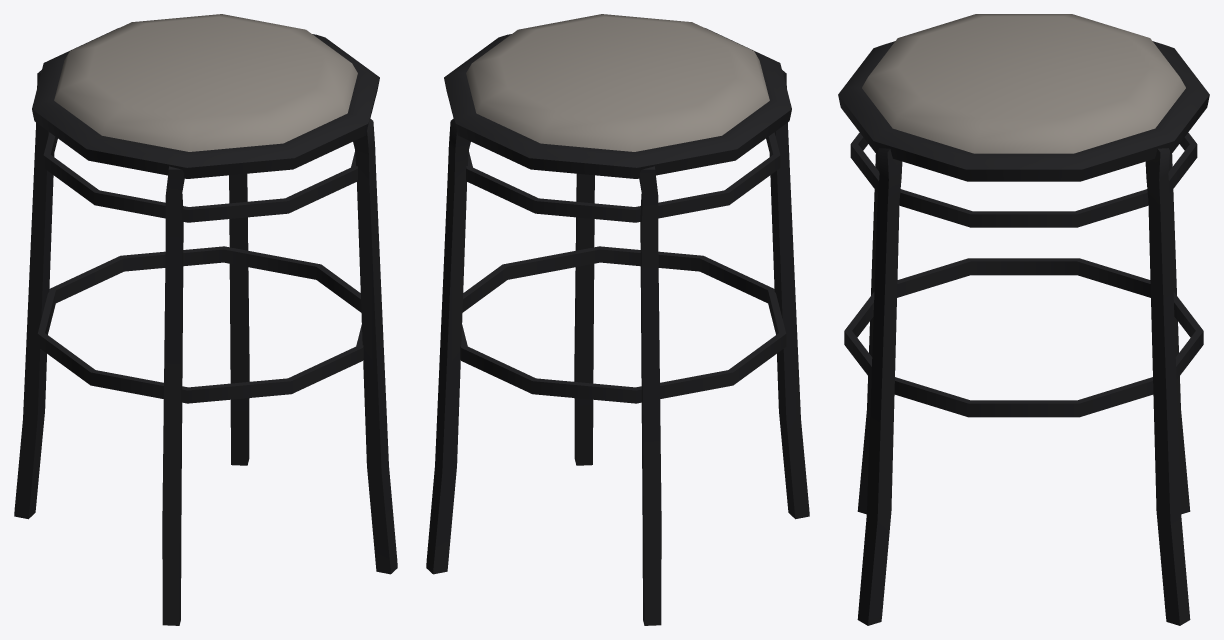
Rendered from pk_stool_black.glb.
3 renders of one model, left to right at view 1: azimuth 30°, elevation 25°; view 2: azimuth 150°, elevation 25°; view 3: azimuth 270°, elevation 25°, orthographic. The views are drawn at different scales.
Visible parts, largest first — view 1: pk_stool_black; view 2: pk_stool_black; view 3: pk_stool_black.
Part boxes in pixels (x1,y1,x2,y2): pk_stool_black: [14, 14, 397, 625]; pk_stool_black: [426, 14, 809, 625]; pk_stool_black: [838, 14, 1209, 625].
Size of the model in its own units: 0.44 by 0.68 by 0.46.
Materials: 1 (1 with a texture image).
